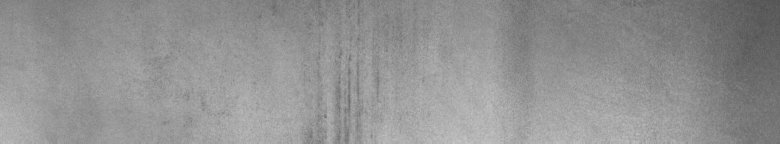ka: (318, 52, 380, 136)
